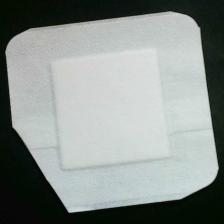Cut: (4, 9, 224, 222)
